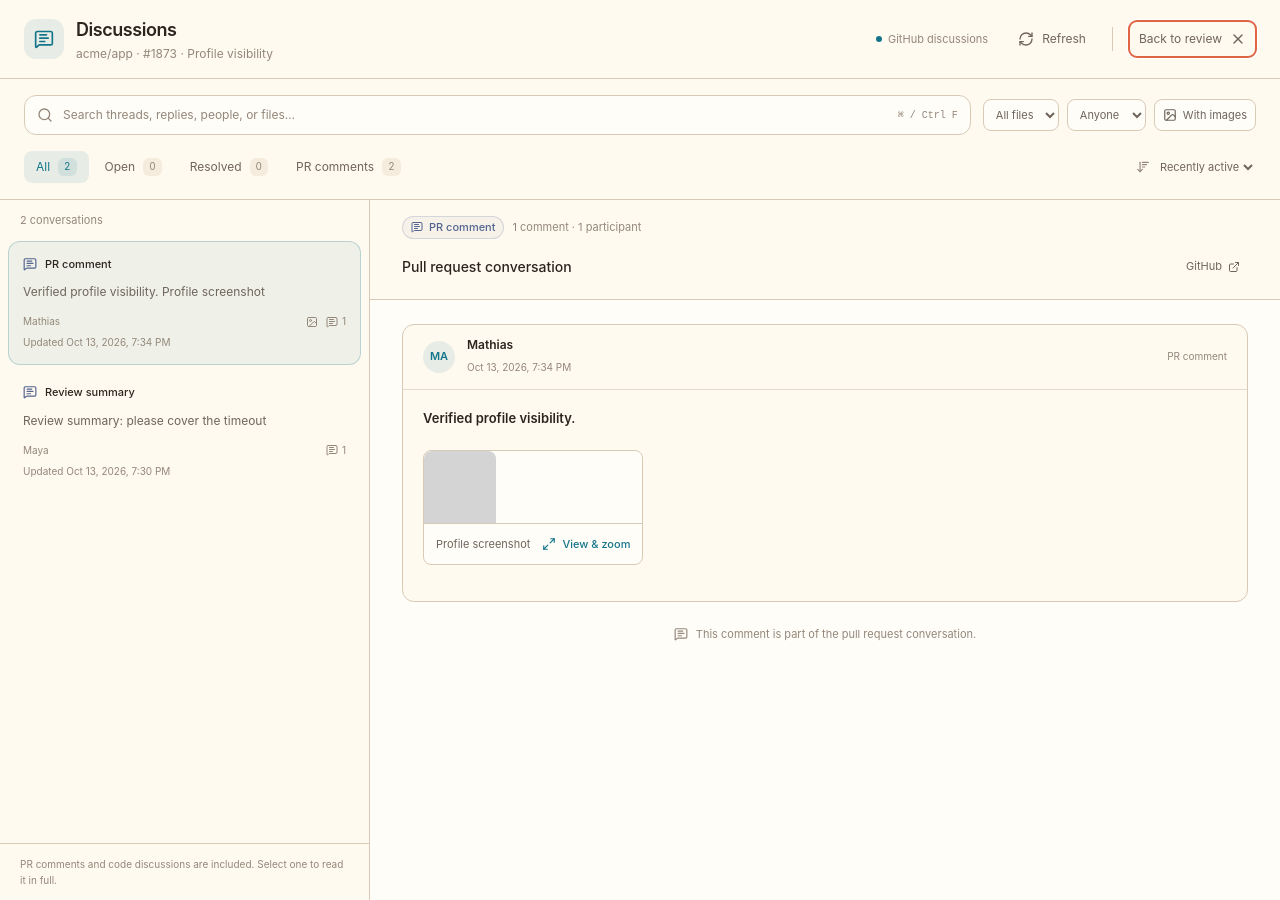
Test: PR comments in Discussions › shows comments when there are no code threads and enlarges their screenshots inside ReviewDuck
expect the tab "Open 0" is shown: met, box [93, 151, 174, 183]
expect the tab "Resolved 0" is shown: met, box [178, 151, 280, 183]
Click the button with aria-label "Enlarge image: Profile screenshot". click: (533,507)
box: [423, 450, 643, 564]
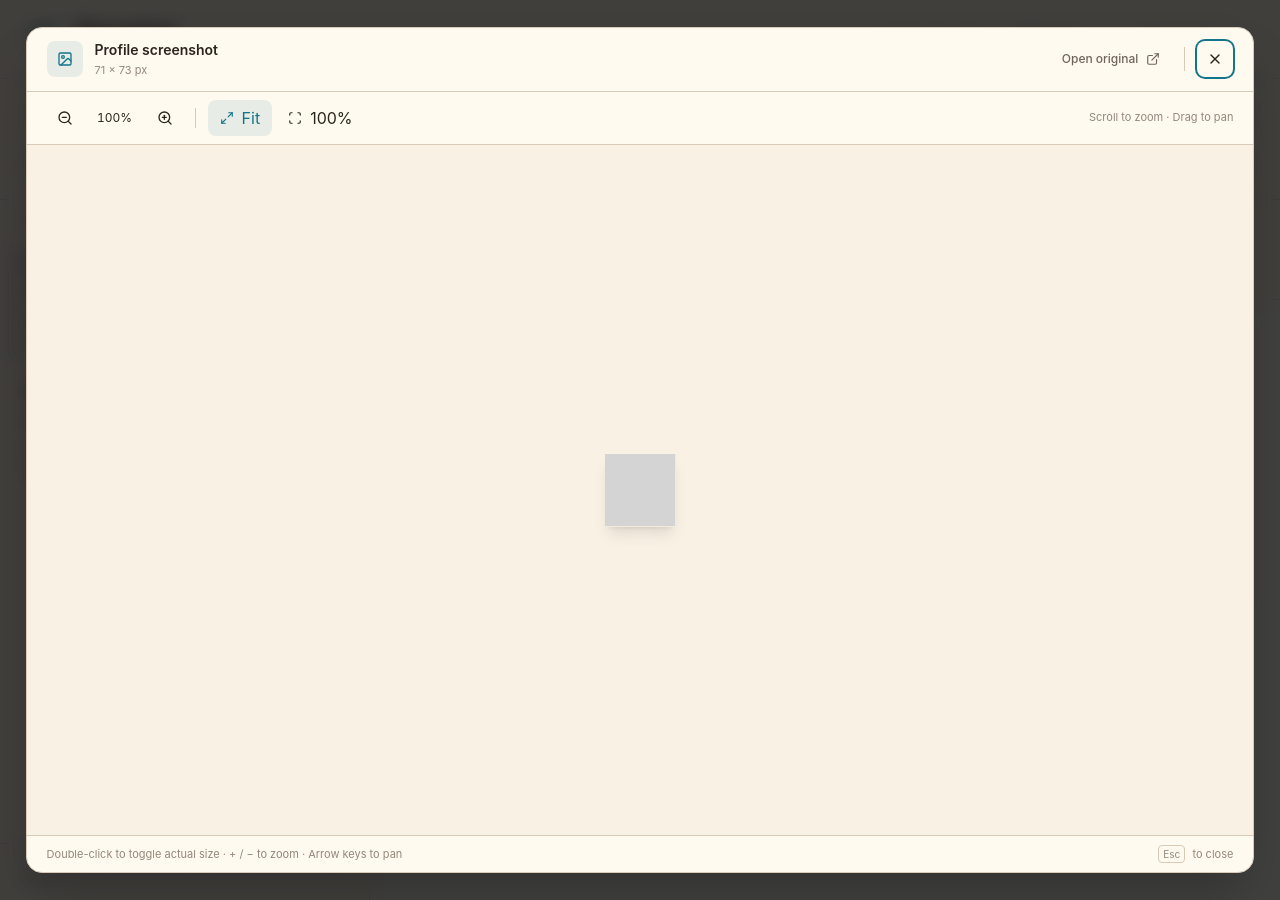
expect the dialog named "Image preview: Profile screenshot" is shown: met
